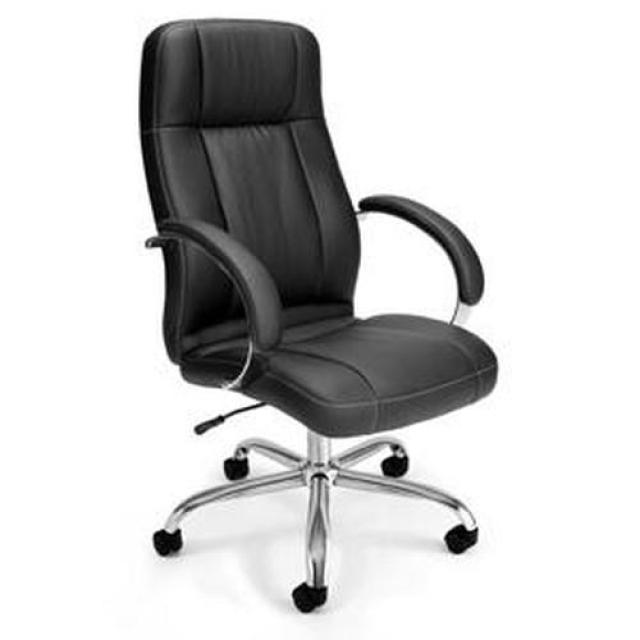swivelchair: (140, 19, 502, 616)
